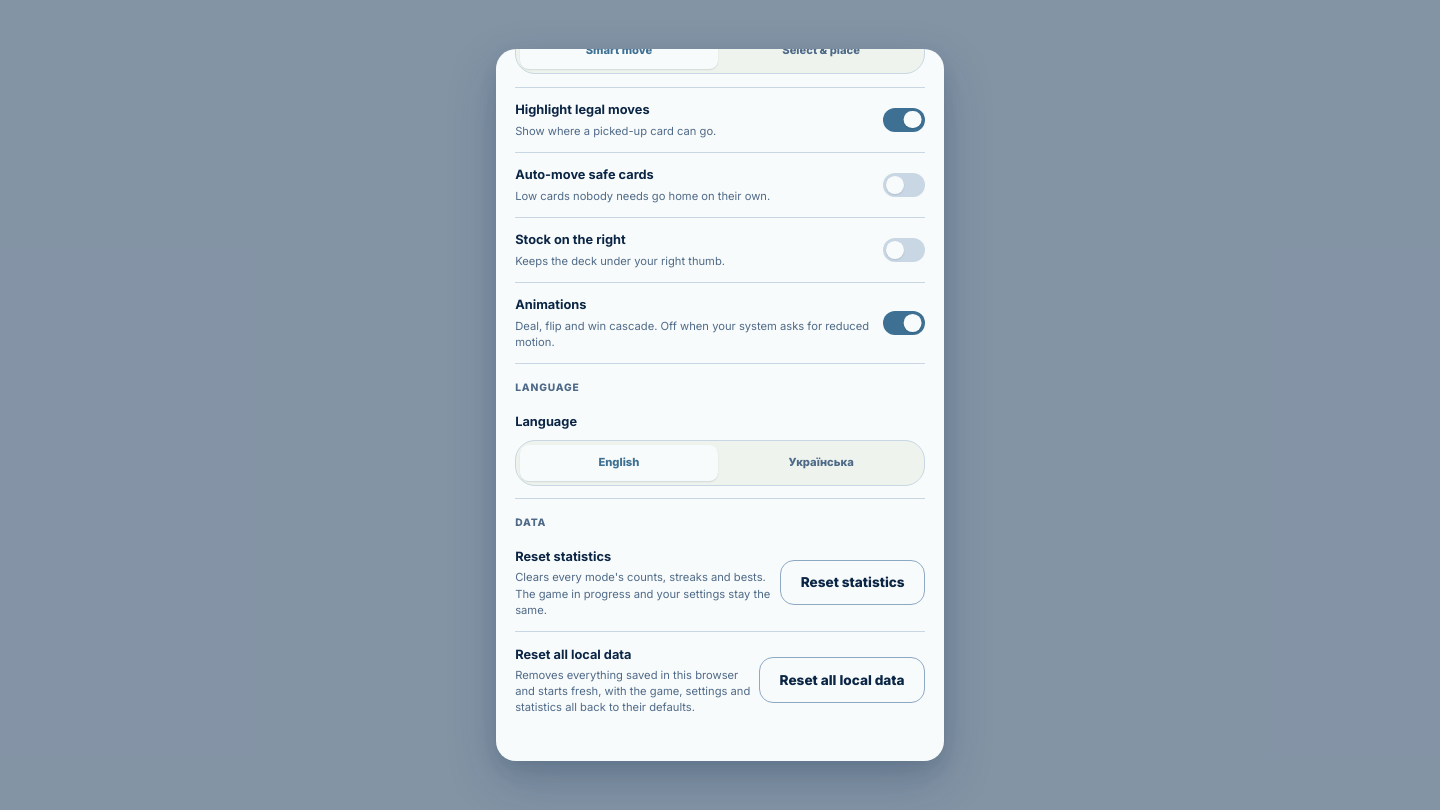
Test: SettingsSheet: Data › Cancel keeps the data and returns focus to the Reset statistics control (I5)
(page scrolled)
What coordinates should you click on to do the following:
click the button "Reset statistics"
I would click on:
 (853, 583)
Its box is [780, 560, 925, 605].
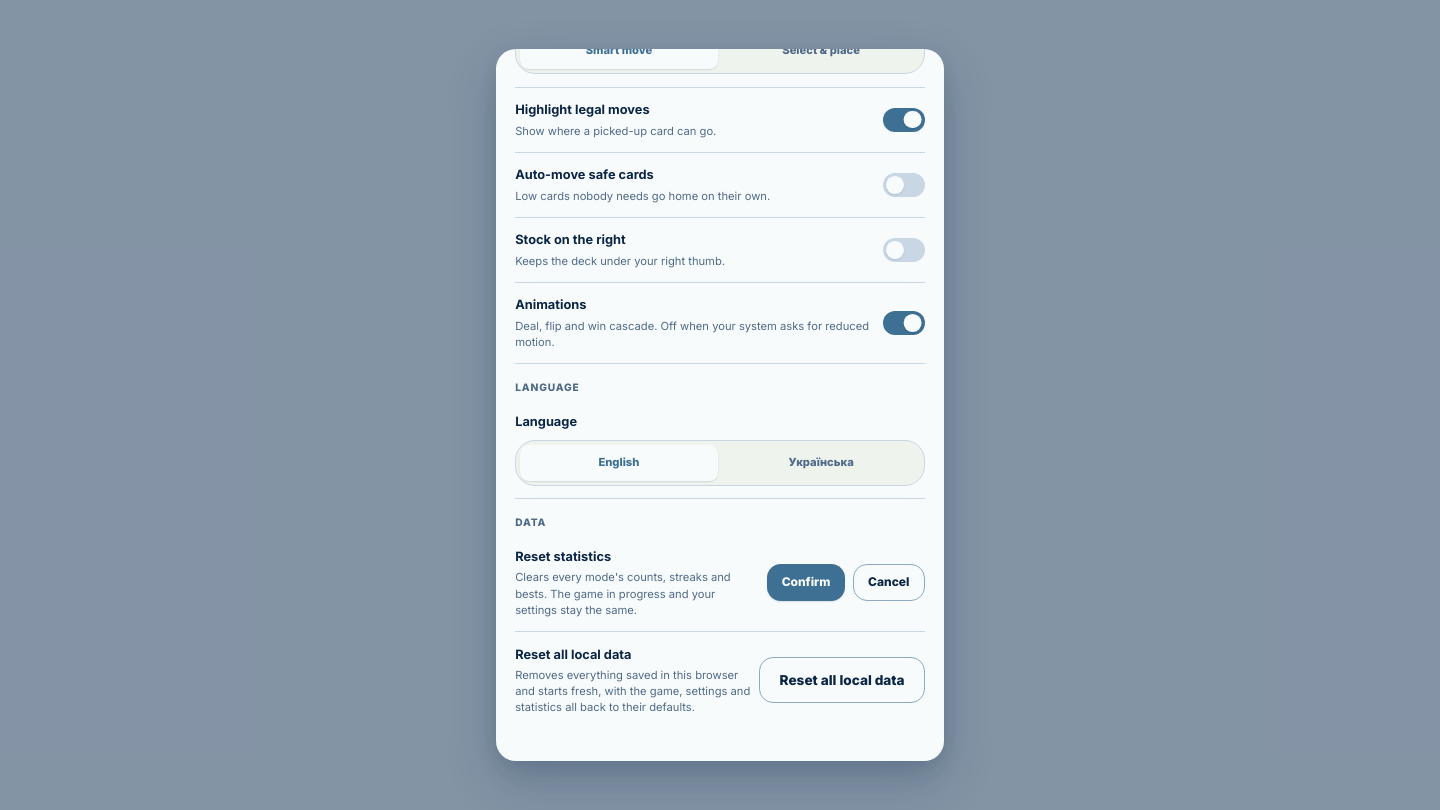
What coordinates should you click on to do the following:
click the button with aria-label "Cancel Reset statistics"
I would click on:
 (889, 583)
Its box is [853, 564, 925, 601].
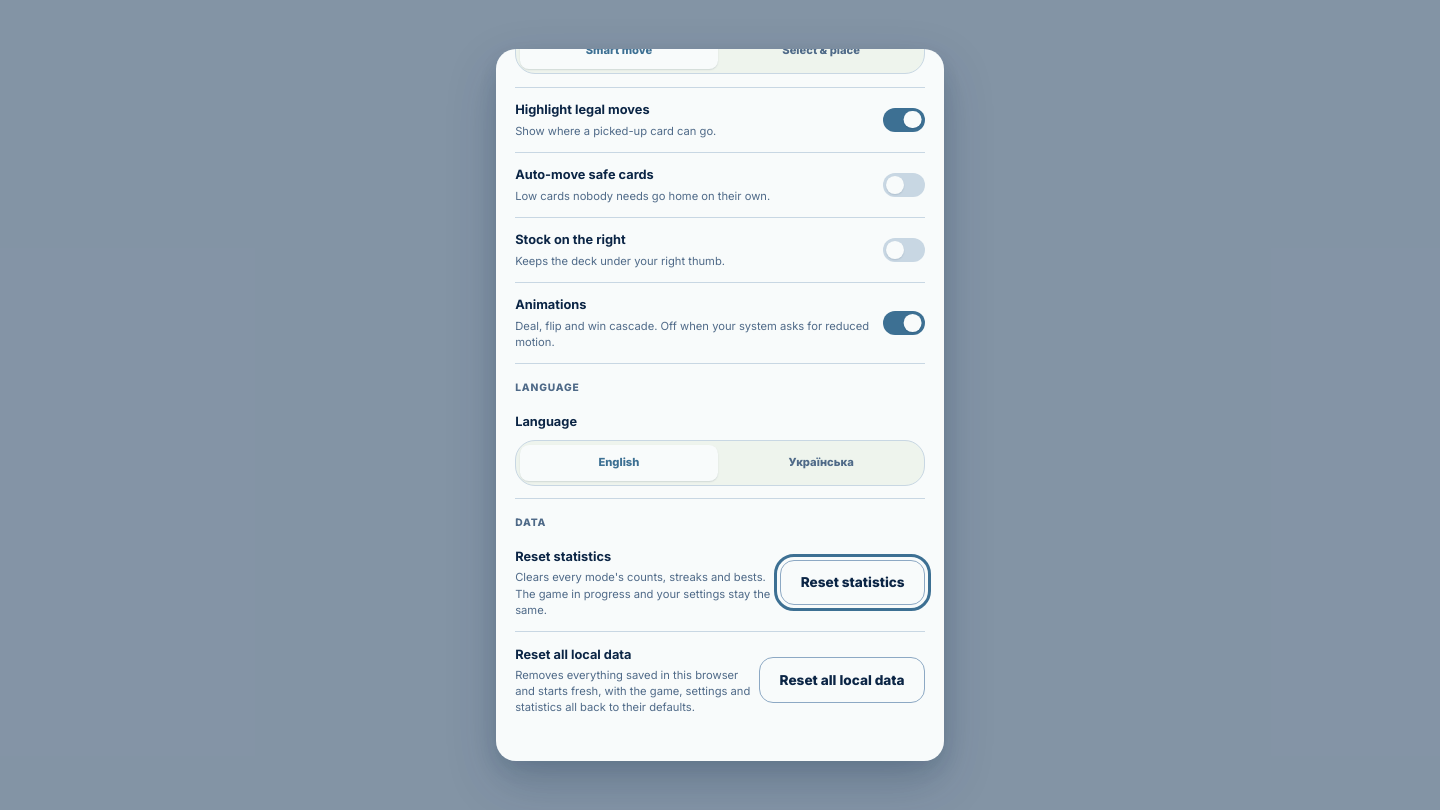
Expected: the button "Reset statistics" is shown, [780, 560, 925, 605]
